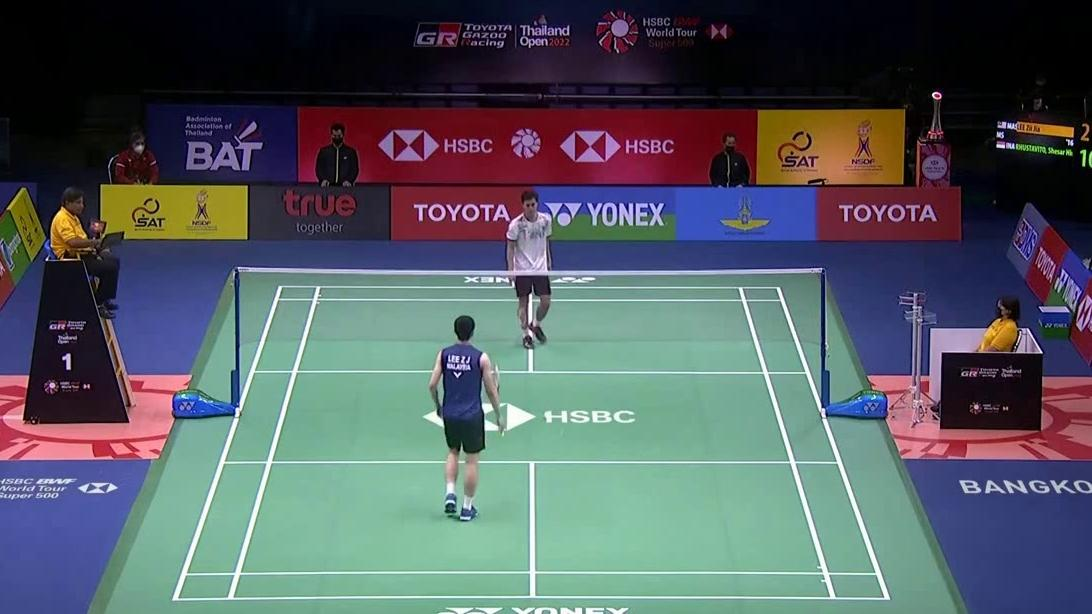racket: (489, 363, 506, 436), (506, 271, 528, 327)
shuttle: (544, 410, 551, 418)
